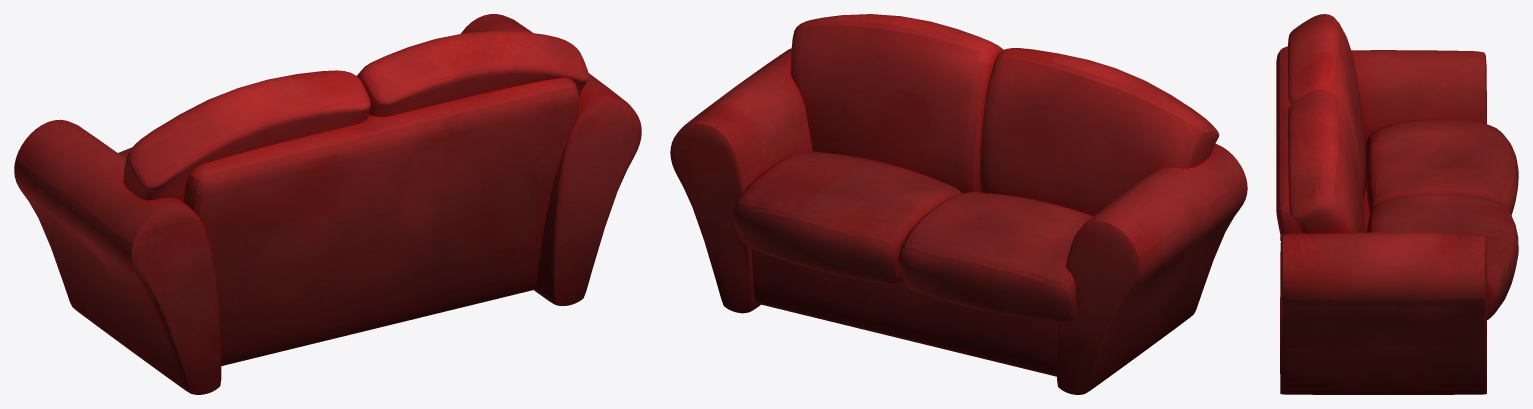
3 renders of one model, left to right at view 1: azimuth 30°, elevation 25°; view 2: azimuth 150°, elevation 25°; view 3: azimuth 270°, elevation 25°, orthographic. The views are drawn at different scales.
Visible parts, largest first — view 1: Sofa; view 2: Sofa; view 3: Sofa.
Boxes of the visible parts, left/top/right/bottom form: Sofa: left=14, top=14, right=641, bottom=394; Sofa: left=670, top=14, right=1247, bottom=394; Sofa: left=1276, top=14, right=1518, bottom=394.
Bounding box in the file's own units: 360 × 182 × 171.
1 material, 1 textured.
